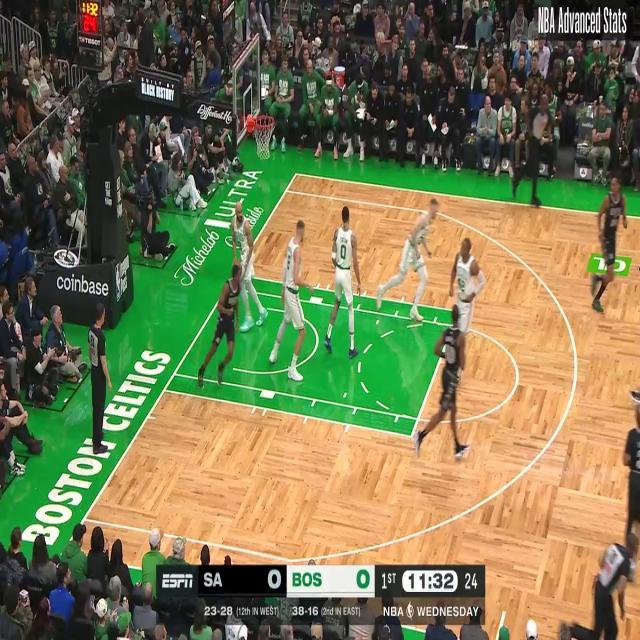ball: (468, 256, 480, 282)
player: (412, 302, 472, 462), (374, 196, 440, 324), (268, 218, 314, 384), (196, 256, 245, 391), (322, 203, 362, 361), (229, 199, 269, 334), (447, 234, 485, 376), (592, 175, 628, 318), (620, 402, 640, 560)
